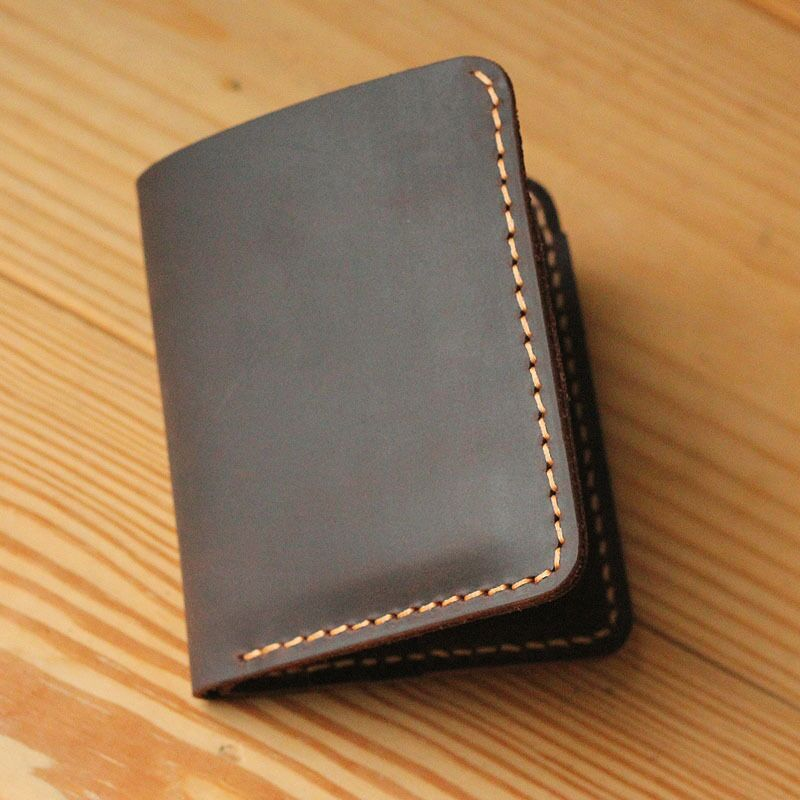monedero: (133, 52, 639, 705)
